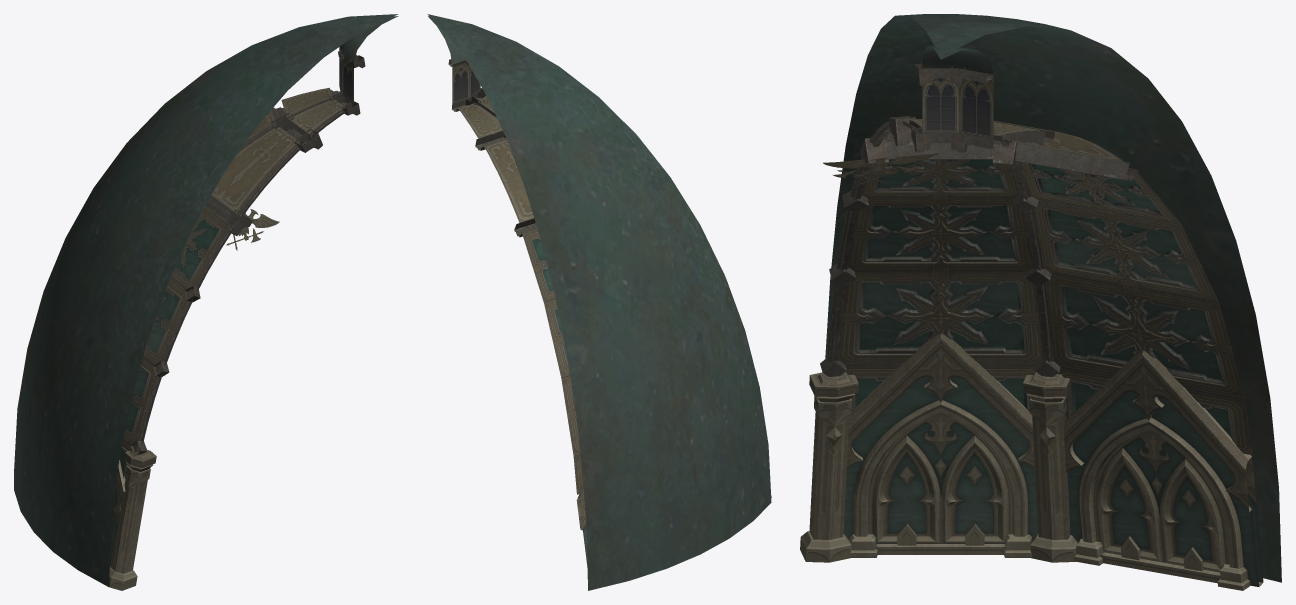
File: bg_rad_kamen_housedome01_sm_hhk.obj
3 views of the same model, side by side, from view 1: azimuth 30°, elevation 25°; view 2: azimuth 150°, elevation 25°; view 3: azimuth 270°, elevation 25° (orthographic). The views are drawn at different scales.
Parts seen in each view (by area): view 1: bg_rad_kamen_housedome01_sm_hhk_2, bg_rad_kamen_housedome01_sm_hhk_1, bg_rad_kamen_housedome01_sm_hhk_0, bg_rad_kamen_housedome01_sm_hhk_3; view 2: bg_rad_kamen_housedome01_sm_hhk_2, bg_rad_kamen_housedome01_sm_hhk_1; view 3: bg_rad_kamen_housedome01_sm_hhk_0, bg_rad_kamen_housedome01_sm_hhk_1, bg_rad_kamen_housedome01_sm_hhk_2, bg_rad_kamen_housedome01_sm_hhk_3.
Boxes of the visible parts, box(x1,y1,x2,y2) form: bg_rad_kamen_housedome01_sm_hhk_2: box(14, 14, 398, 586); bg_rad_kamen_housedome01_sm_hhk_1: box(119, 109, 299, 479); bg_rad_kamen_housedome01_sm_hhk_0: box(109, 450, 156, 590); bg_rad_kamen_housedome01_sm_hhk_3: box(226, 209, 279, 250); bg_rad_kamen_housedome01_sm_hhk_2: box(427, 14, 771, 590); bg_rad_kamen_housedome01_sm_hhk_1: box(484, 139, 583, 494); bg_rad_kamen_housedome01_sm_hhk_0: box(800, 333, 1263, 590); bg_rad_kamen_housedome01_sm_hhk_1: box(839, 120, 1252, 455); bg_rad_kamen_housedome01_sm_hhk_2: box(820, 14, 1281, 582); bg_rad_kamen_housedome01_sm_hhk_3: box(823, 153, 939, 184).
Size of the model in its own units: 17.29 by 23.12 by 13.6.
Materials: 4 (4 with a texture image).
